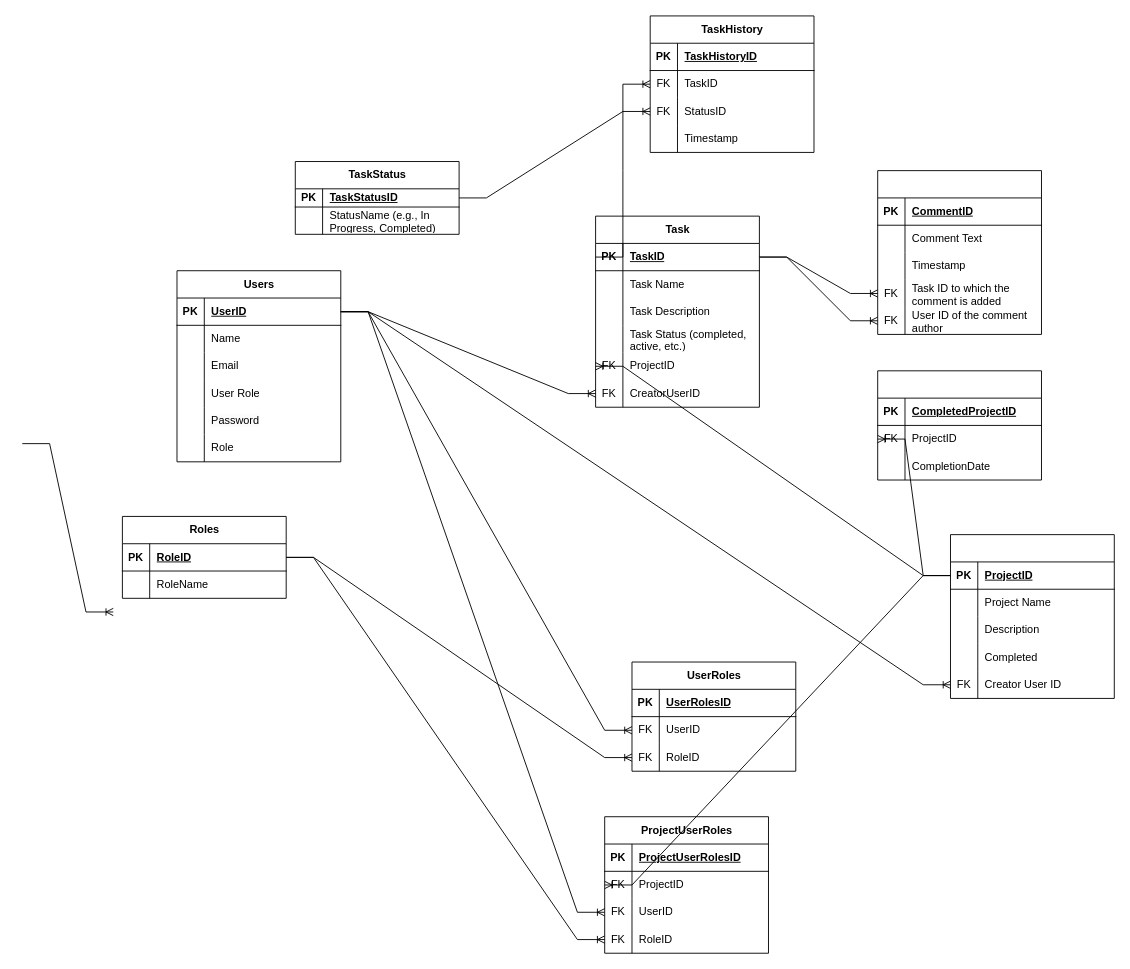
Image size: 1130x969. Some labels were removed from this diagram. Each missing label, with the box of its shape:
Comments: (877, 170, 1041, 334)
CompletedProjects: (877, 370, 1041, 480)
Projects: (950, 534, 1114, 698)
